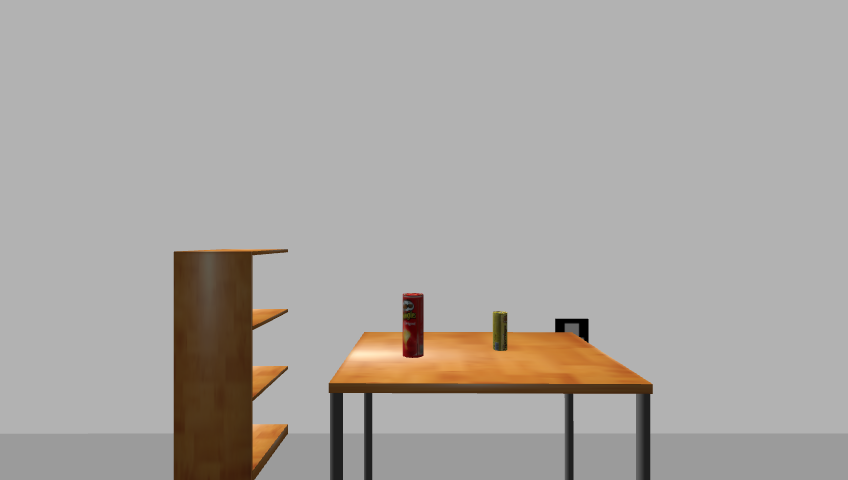aruco marker: (550, 317, 594, 348)
biscuits pack: (492, 310, 509, 353)
bookshelf: (168, 247, 296, 480)
dinner table: (322, 331, 660, 479)
pringles can: (400, 292, 425, 360)
